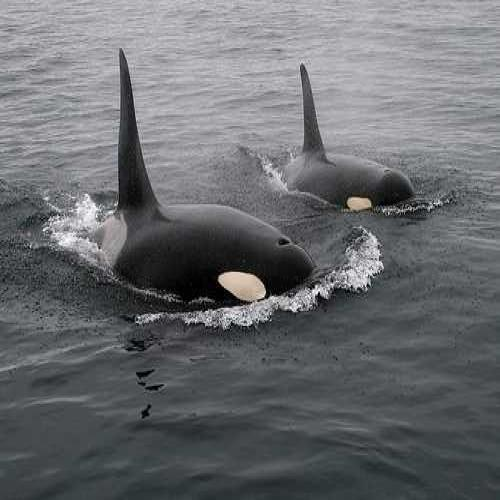killer_whale-endangered: (77, 41, 324, 324), (269, 54, 440, 235)
